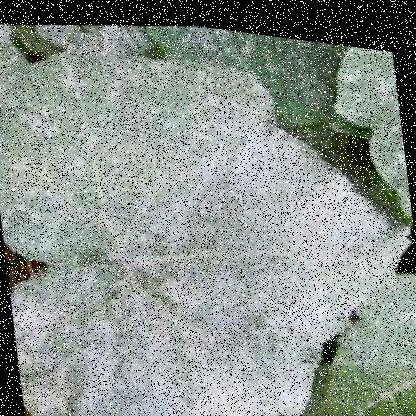PowderyMildew: (0, 45, 244, 258), (127, 140, 340, 369), (29, 258, 206, 415)
